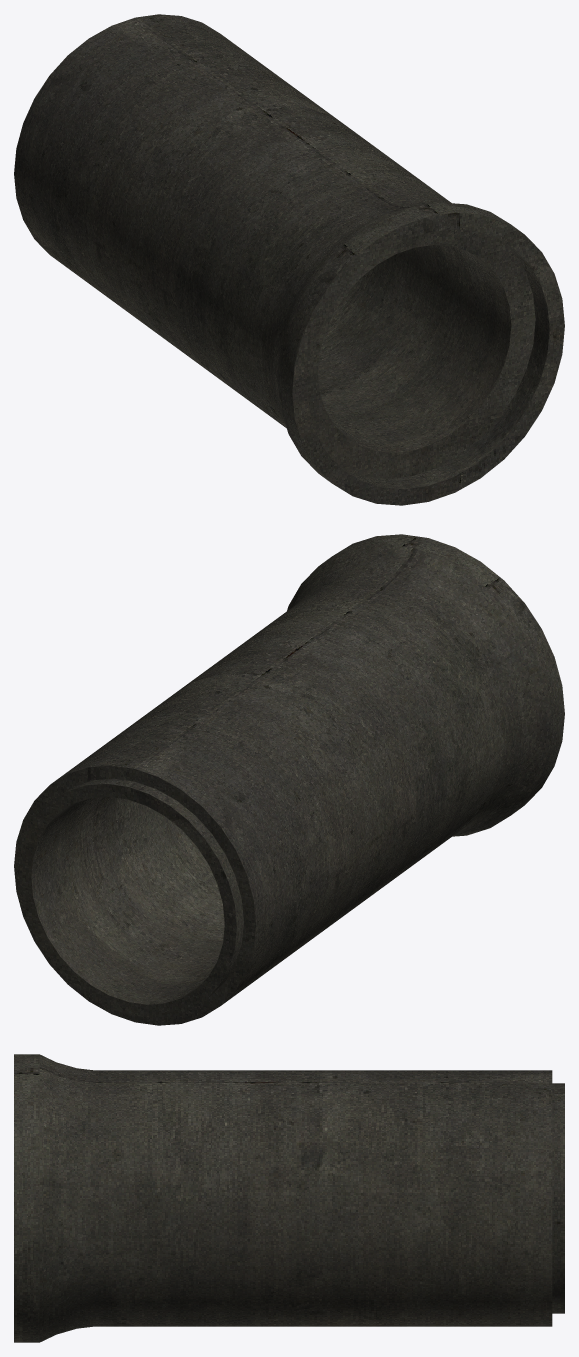
Rendered from concrete_pipe_hm_1_end.glb.
3 views of the same model, one above another, from view 1: azimuth 30°, elevation 25°; view 2: azimuth 150°, elevation 25°; view 3: azimuth 270°, elevation 25° (orthographic). The views are drawn at different scales.
Visible parts, largest first — view 1: concrete_pipe_hm_1_end; view 2: concrete_pipe_hm_1_end; view 3: concrete_pipe_hm_1_end.
Boxes of the visible parts, x1,y1,x2,y2 form: concrete_pipe_hm_1_end: (14,14,564,505); concrete_pipe_hm_1_end: (14,534,564,1025); concrete_pipe_hm_1_end: (14,1054,564,1342).
Bounding box in the file's own units: 2.25 × 2.25 × 4.3.
Materials: 1 (1 with a texture image).
